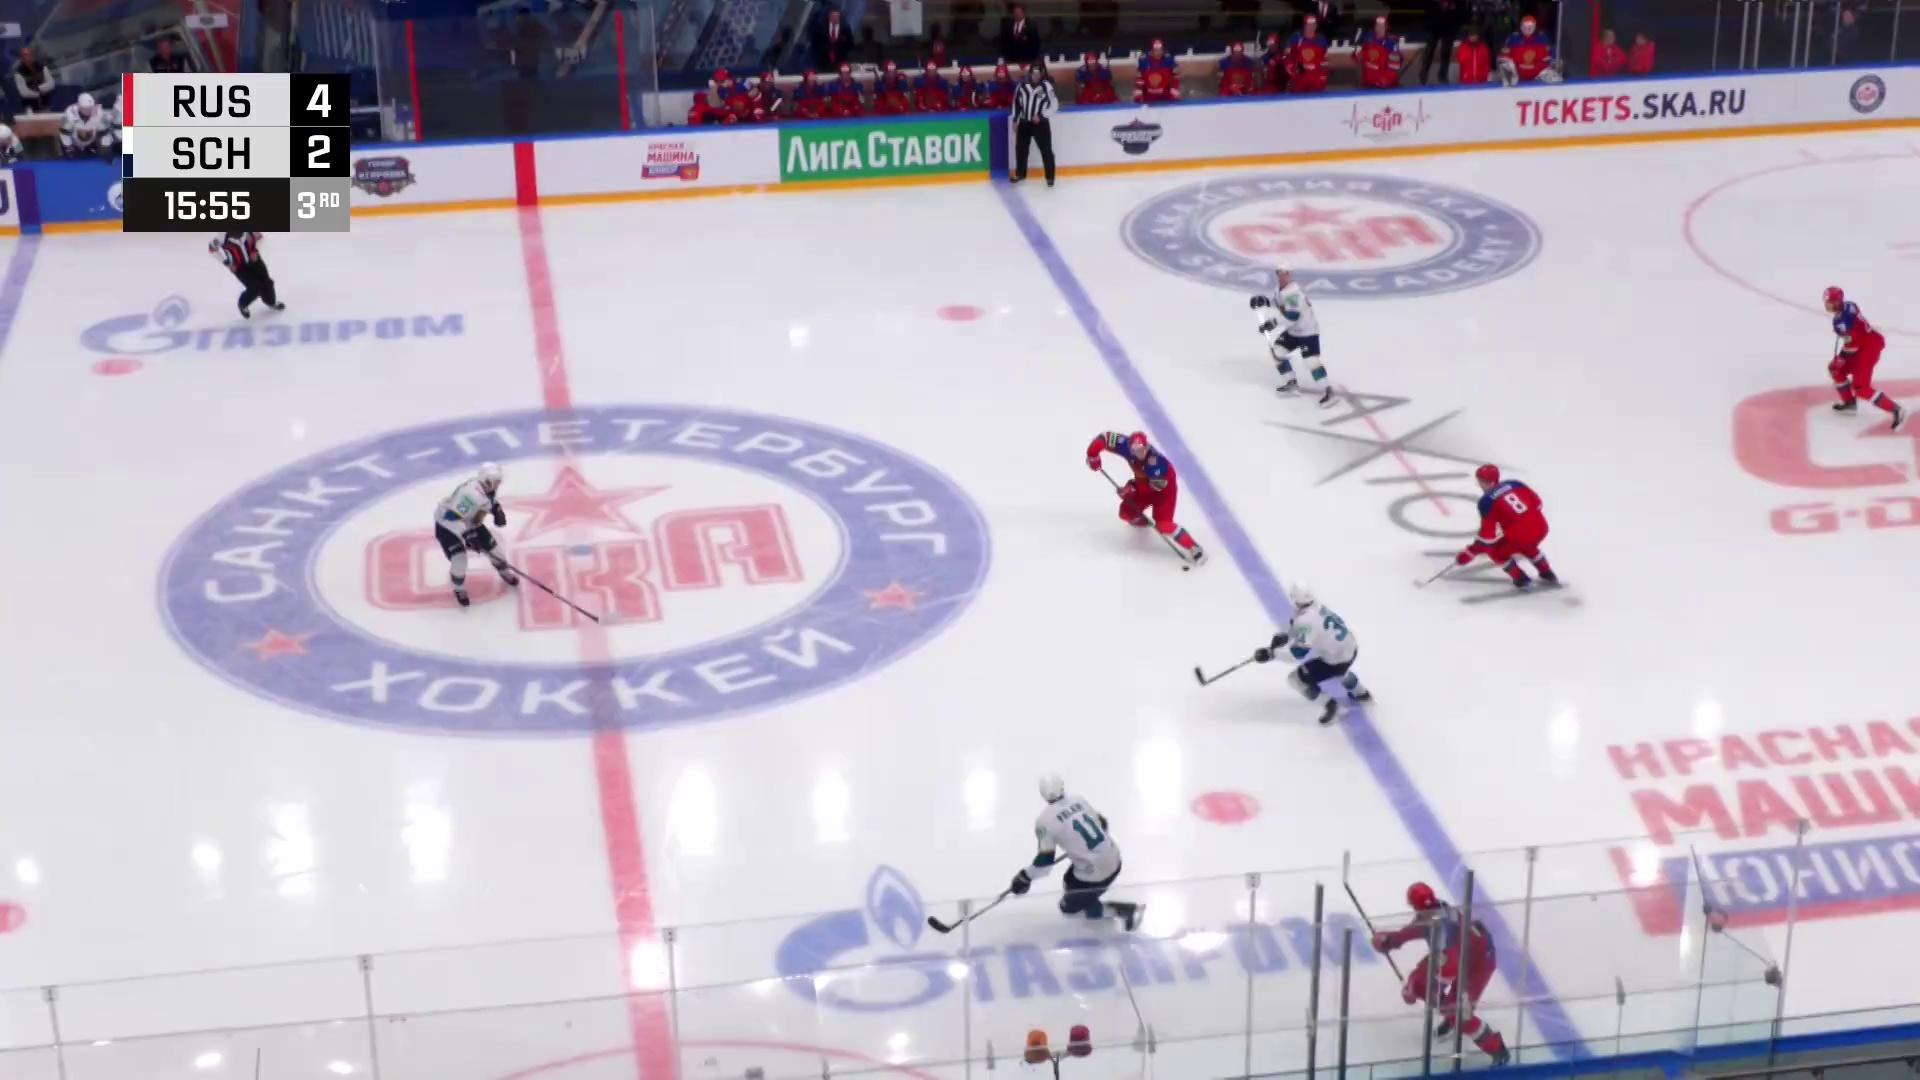ball: (1182, 564, 1191, 572)
